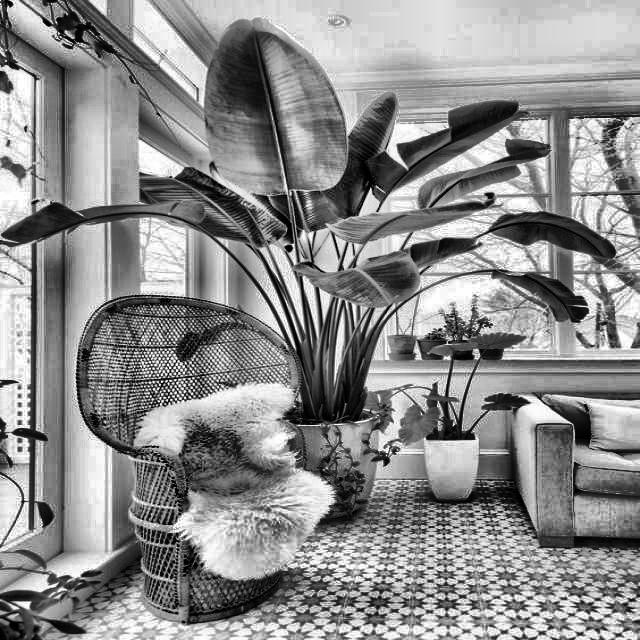plants: (137, 19, 392, 516), (399, 335, 531, 503)
